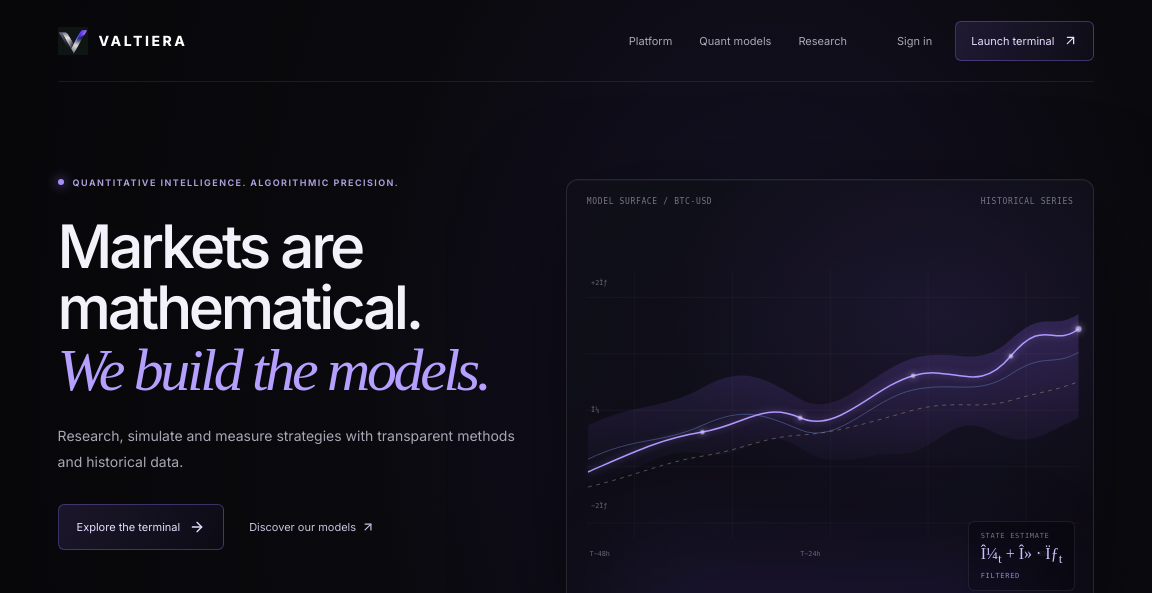
Test: quantitative terminal navigation › prefills backtest history from completed public candles
This screenshot has width=1152, height=593.
Click the button "Launch terminal" at (1025, 40), box [955,20,1094,60]
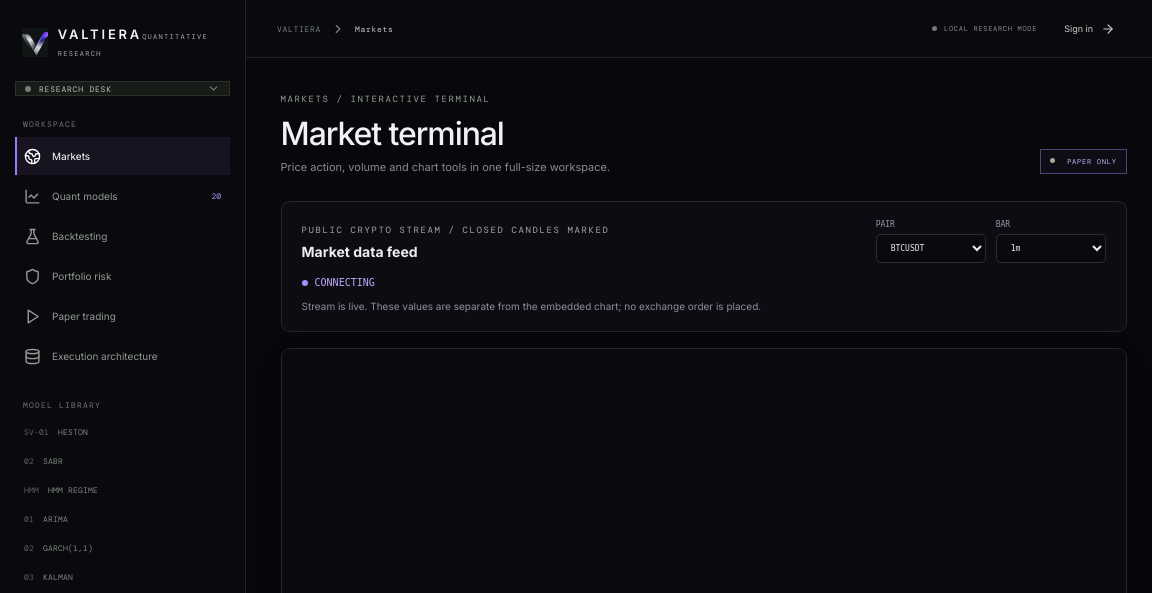
Click the button "Backtesting" at (122, 236), box [15,217,230,255]
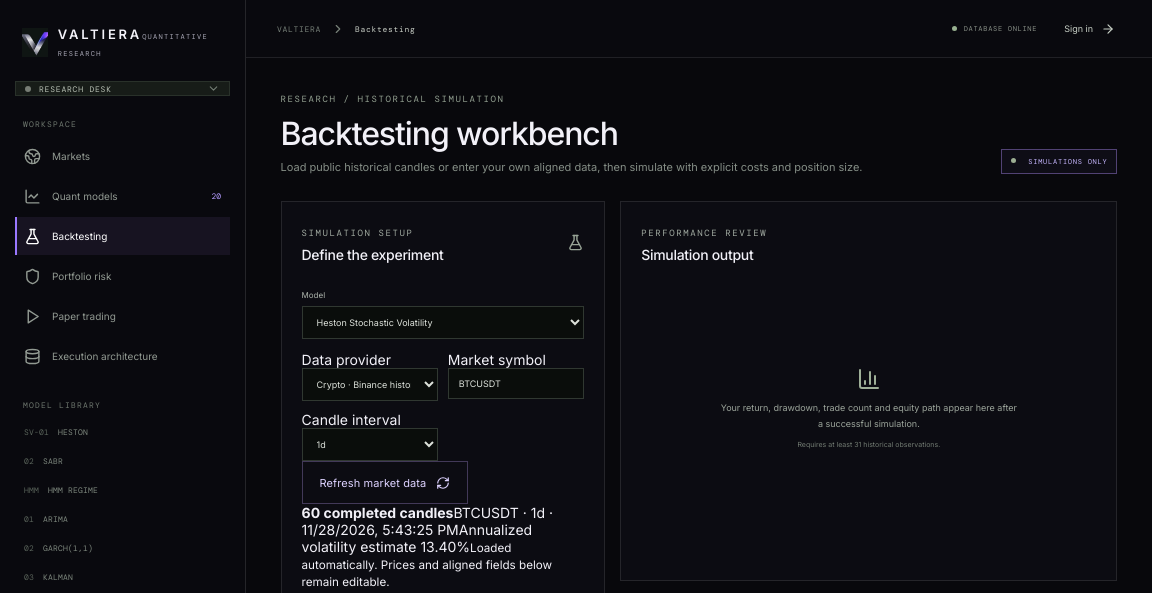
Now the text "60 completed candles" is shown, box [302,504,453,521]
